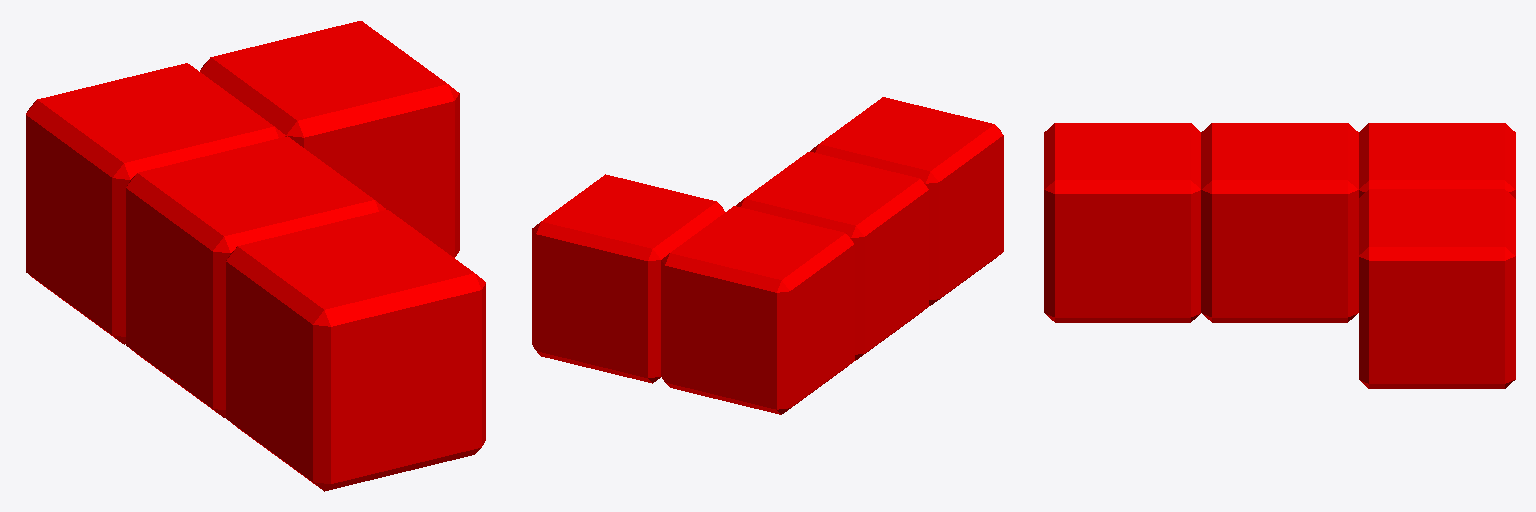
robot.urdf — L2_box.SLDPRT:
<?xml version="1.0" encoding="utf-8"?>
<!-- This URDF was automatically created by SolidWorks to URDF Exporter! Originally created by [author] ([email redacted]) 
     Commit Version: 1.5.1-0-g916b5db  Build Version: 1.5.7152.31018
     For more information, please see http://wiki.ros.org/sw_urdf_exporter -->
<robot
  name="L2_box.SLDPRT">

   <material name="light_gold">
        <color rgba="0.9333333333333333 0.8627450980392157 0.5098039215686274 1"/>
    </material>
    <material name="gray">
        <color rgba="0.7450980392156863 0.7450980392156863 0.7450980392156863 1"/>
    </material>
    <material name="red">
        <color rgba="1 0 0 1"/>
    </material>
    <material name="orange">
        <color rgba="1 0.647058823 0 1"/>
    </material>
     <material name="yellow">
        <color rgba="1 1 0 1"/>
    </material>
    <material name="green">
        <color rgba="0 0.9803921 0.603921   1"/>
    </material>

    <material name="blue">
        <color rgba="0.52941176 0.807843 1   1"/>
    </material>
    <material name="purple">
        <color rgba="0.698 0.2274509 0.933333   1"/>
    </material>

  <link
    name="L2_box.SLDPRT">
    <inertial>
      <origin
        xyz="0.0075  0.0075 0"
        rpy="0 0 0" />
      <mass
        value="0.06804" />
      <inertia
        ixx="0.00005613"
        ixy="0.00001531"
        ixz="0 "
        iyy="0.00002552"
        iyz="0.0"
        izz="0.00007144" />
    </inertial>
    <visual>
      <origin
        xyz="0 0 0"
        rpy="0 0 0" />
      <geometry>
        <mesh filename="meshes/L2_cube3.STL"/>
      </geometry>
      <material name="red"/>
    </visual>


    <collision>
      <origin
        xyz="0 0 0"
        rpy="0 0 0" />
      <geometry>
       <box size="0.03 0.09 0.03"/>
      </geometry>
    </collision>

    <collision>
      <origin
        xyz="0.03 0.03 0"
        rpy="0 0 0" />
      <geometry>
       <box size="0.03 0.03 0.03"/>
      </geometry>
    </collision>
  </link>
</robot>

--- What the picture shows (computed from the rendered views, not written in the file) ---
The picture shows the robot from 3 angles, left to right: view 1: azimuth 30°, elevation 25°; view 2: azimuth 150°, elevation 25°; view 3: azimuth 270°, elevation 25°; orthographic projection.
Robot: L2_box.SLDPRT — 1 links, 0 joints (none); root link L2_box.SLDPRT; default pose: all joints at 0.
Links seen in each view (by area): view 1: L2_box.SLDPRT; view 2: L2_box.SLDPRT; view 3: L2_box.SLDPRT.
Link boxes in pixels (x1,y1,x2,y2): L2_box.SLDPRT: (26, 21, 485, 491); L2_box.SLDPRT: (532, 97, 1003, 414); L2_box.SLDPRT: (1044, 123, 1515, 388).
Bounding box of the posed robot: 0.06 × 0.09 × 0.03 m (x, y, z).
Meshes: 1 distinct files referenced, 1 mesh visuals loaded (1 binary STL).